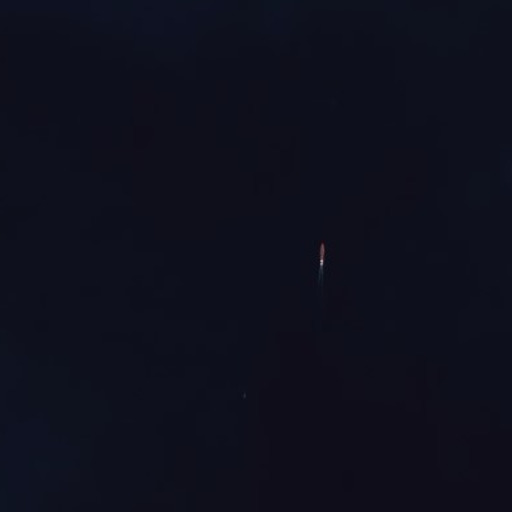ship: (316, 240, 328, 270)
